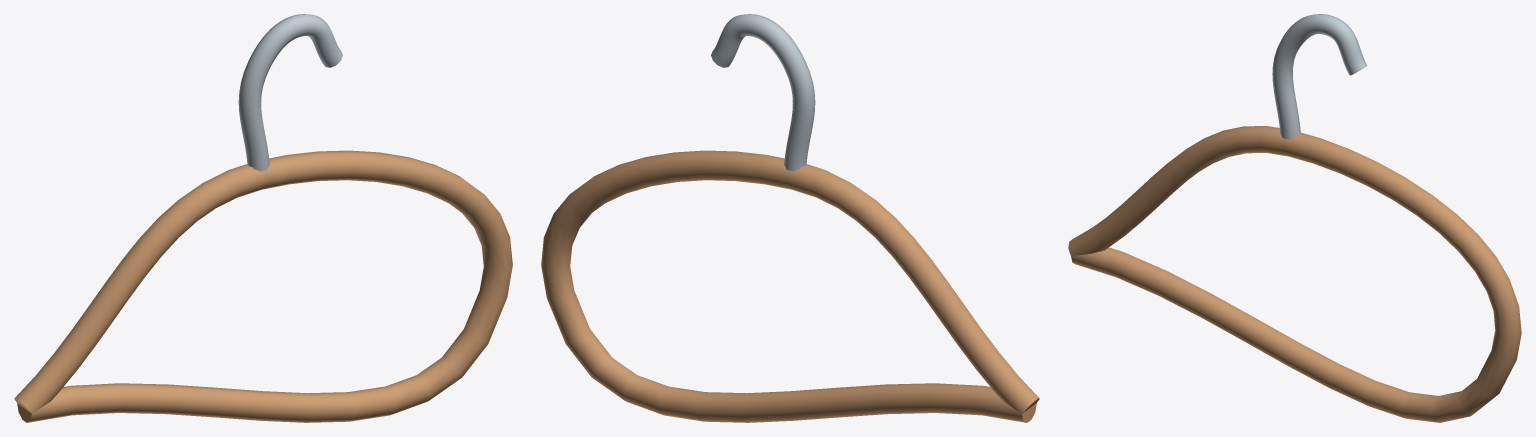
Rendered from bathroomHanger.glb.
The picture shows the model from 3 angles, left to right: view 1: azimuth 30°, elevation 25°; view 2: azimuth 150°, elevation 25°; view 3: azimuth 330°, elevation 25°; orthographic projection. The views are drawn at different scales.
Parts seen in each view (by area): view 1: Hanger, Hook; view 2: Hanger, Hook; view 3: Hanger, Hook.
Part boxes in pixels (box(x1,y1,x2,y2)): Hanger: box(14, 150, 512, 422); Hook: box(238, 14, 342, 171); Hanger: box(541, 150, 1039, 422); Hook: box(711, 14, 815, 171); Hanger: box(1068, 126, 1521, 422); Hook: box(1272, 14, 1367, 139).
Size of the model in its own units: 1.26 by 1.03 by 0.066.
